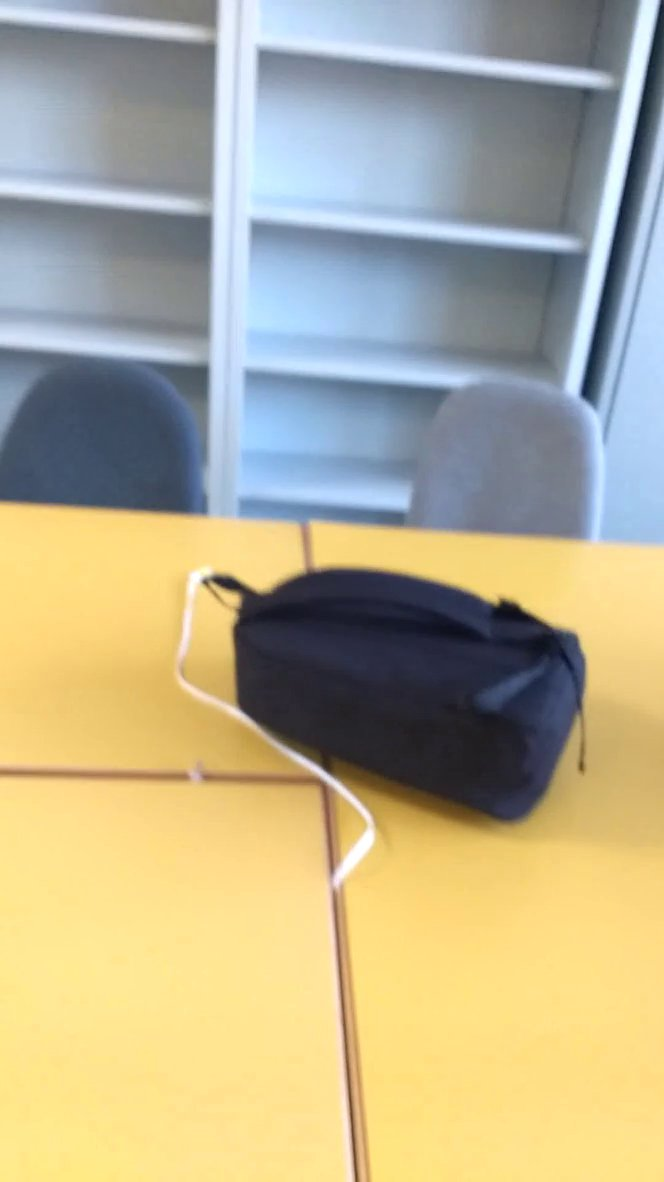bag: (195, 551, 608, 857)
chair: (385, 364, 616, 557), (2, 345, 220, 528)
